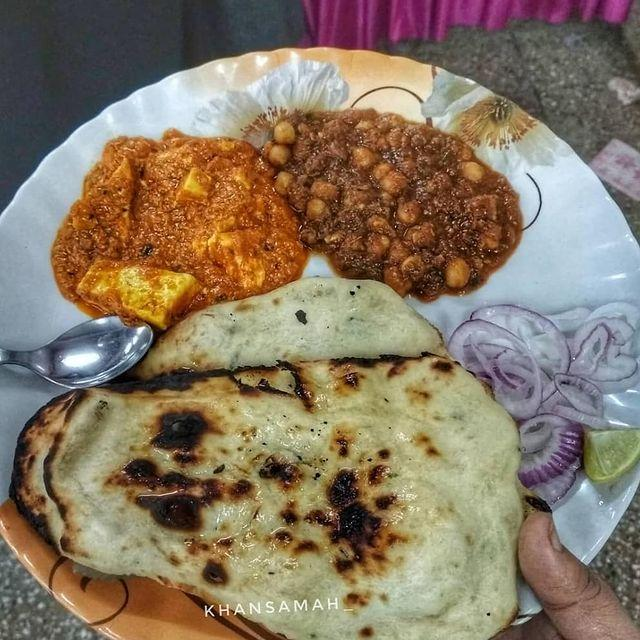Chole: (286, 104, 522, 291)
